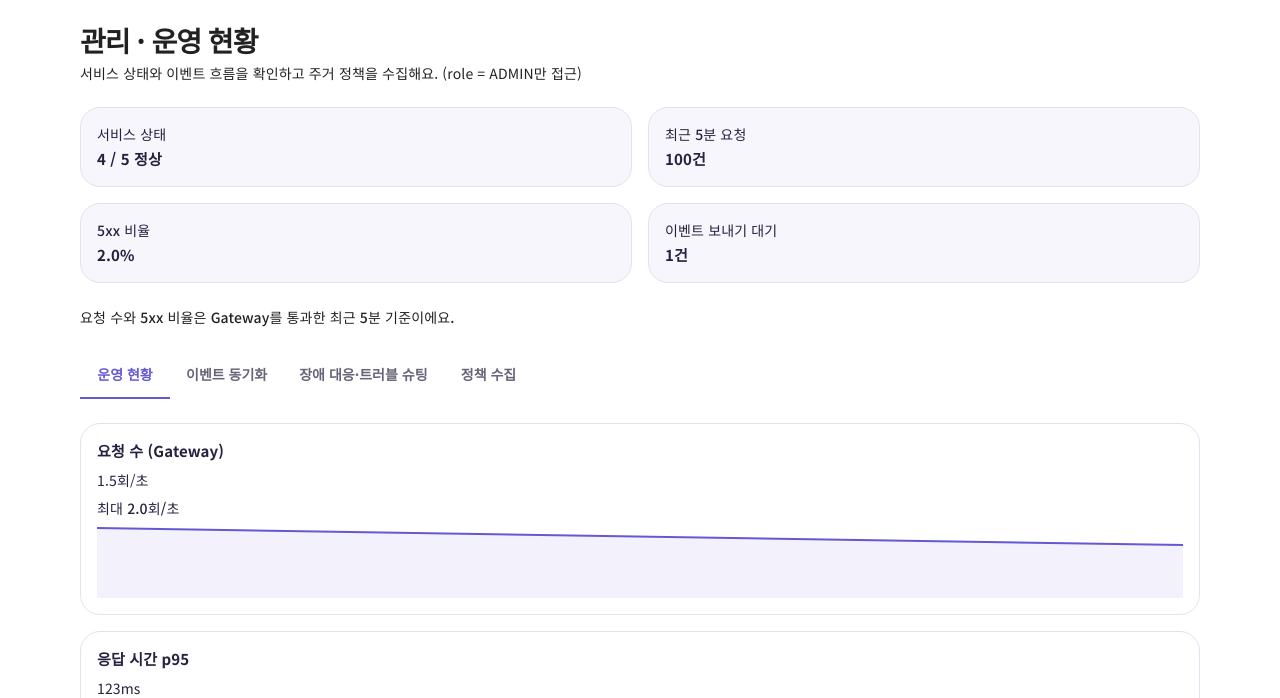
Test: 관리자 장애 대응·트러블 슈팅 › 기존 지표와 이벤트 대기 건수로 네 가지 장애 대응을 보여 준다
Expected: the heading "관리 · 운영 현황" is shown, [80, 20, 257, 60]
Click the tab "장애 대응·트러블 슈팅" at (363, 375), box [283, 351, 444, 399]
(page scrolled)
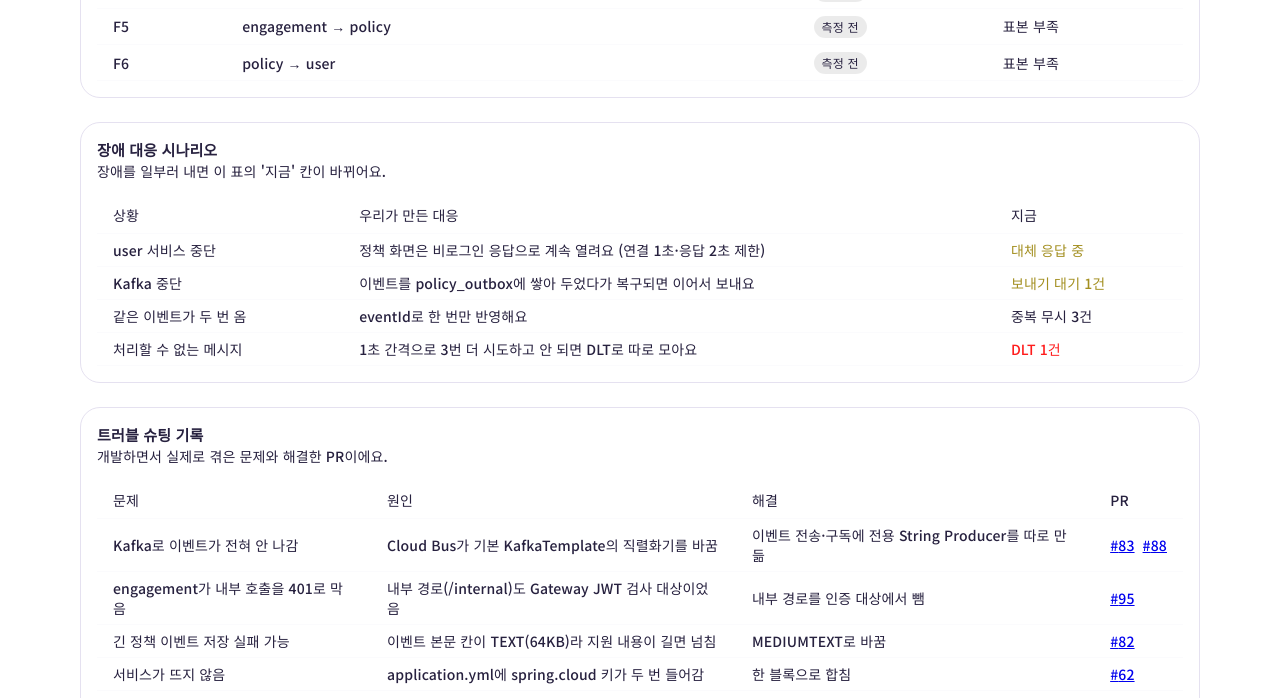
Expected: the text "대체 응답 중" is shown, [995, 234, 1183, 267]
Expected: the text "보내기 대기 1건" is shown, [995, 267, 1183, 300]
Expected: the text "중복 무시 3건" is shown, [995, 300, 1183, 333]
